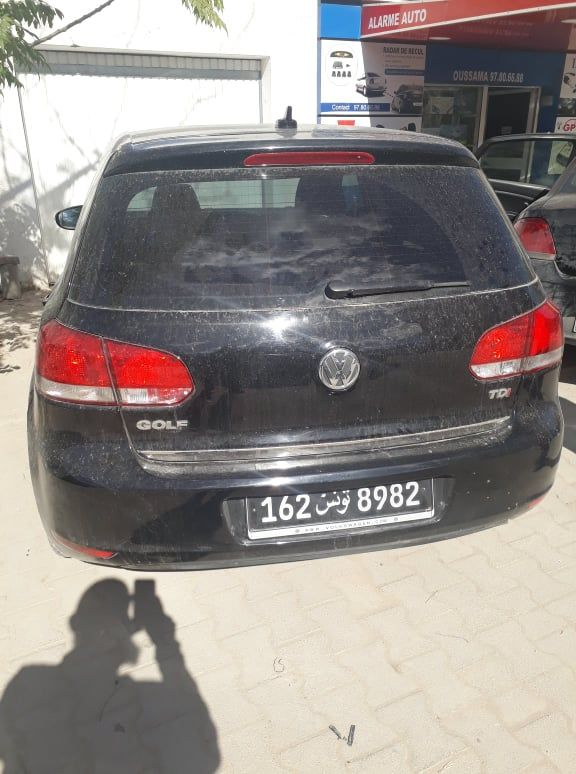LP: (244, 476, 438, 530)
